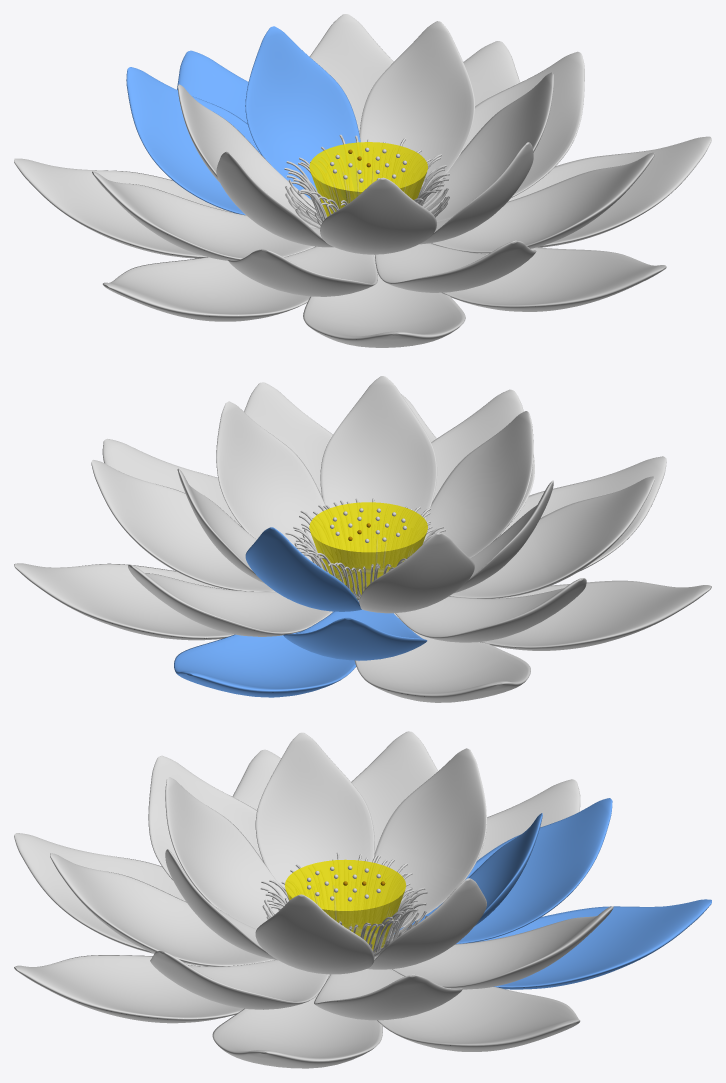
Rendered from lotus status 2.fbx.
3 renders of one model, top to bottom at view 1: azimuth 30°, elevation 25°; view 2: azimuth 150°, elevation 25°; view 3: azimuth 270°, elevation 25°, orthographic. The views are drawn at different scales.
Parts seen in each view (by area): view 1: Лофт_NURBS_1, Лофт_NURBS_0, Лофт_NURBS_3_3, Лофт_NURBS_5_3, Лофт_NURBS_3_2, Лофт_NURBS_4_3, Лофт_NURBS_6_2, Лофт_NURBS_6_3, Лофт_NURBS_0_2, Лофт_NURBS_2, Лофт_NURBS_2_3, Лофт_NURBS_4 (+10 smaller); view 2: Лофт_NURBS_3, Лофт_NURBS_2, Лофт_NURBS_5_2, Лофт_NURBS_4, Лофт_NURBS_2_2, Лофт_NURBS_5_3, Лофт_NURBS_1_3, Лофт_NURBS_0_3, Лофт_NURBS_6_3, Объект_Конус, Лофт_NURBS_1_2, Лофт_NURBS_6_2 (+9 smaller); view 3: Лофт_NURBS_5, Лофт_NURBS_6, Лофт_NURBS_4_2, Лофт_NURBS_4, Лофт_NURBS_3_3, Лофт_NURBS_1_3, Лофт_NURBS_0_2, Лофт_NURBS_2_3, Лофт_NURBS_0_3, Лофт_NURBS_1_2, Лофт_NURBS_3_2, Лофт_NURBS_2 (+10 smaller).
Part boxes in pixels (x1,y1,x2,y2): Лофт_NURBS_1: (359, 21, 474, 192); Лофт_NURBS_0: (245, 26, 360, 199); Лофт_NURBS_3_3: (430, 243, 666, 311); Лофт_NURBS_5_3: (102, 257, 310, 321); Лофт_NURBS_3_2: (431, 152, 654, 253); Лофт_NURBS_4_3: (303, 254, 465, 347); Лофт_NURBS_6_2: (92, 171, 315, 260); Лофт_NURBS_6_3: (14, 158, 232, 258); Лофт_NURBS_0_2: (126, 67, 260, 215); Лофт_NURBS_2: (422, 72, 553, 221); Лофт_NURBS_2_3: (508, 136, 711, 247); Лофт_NURBS_4: (320, 177, 436, 254); Лофт_NURBS_3: (320, 376, 437, 572); Лофт_NURBS_2: (216, 401, 354, 578); Лофт_NURBS_5_2: (449, 476, 654, 598); Лофт_NURBS_4: (423, 411, 533, 557); Лофт_NURBS_2_2: (91, 460, 274, 591); Лофт_NURBS_5_3: (480, 580, 711, 650); Лофт_NURBS_1_3: (14, 563, 234, 640); Лофт_NURBS_0_3: (174, 593, 359, 697); Лофт_NURBS_6_3: (354, 600, 530, 702); Объект_Конус: (309, 502, 427, 599); Лофт_NURBS_1_2: (128, 564, 332, 636); Лофт_NURBS_6_2: (395, 578, 586, 642); Лофт_NURBS_5: (255, 732, 374, 929); Лофт_NURBS_6: (356, 748, 486, 936); Лофт_NURBS_4_2: (50, 853, 274, 966); Лофт_NURBS_4: (165, 777, 288, 929); Лофт_NURBS_3_3: (14, 955, 243, 1023); Лофт_NURBS_1_3: (372, 947, 580, 1051); Лофт_NURBS_0_2: (456, 798, 612, 944); Лофт_NURBS_2_3: (212, 974, 382, 1068); Лофт_NURBS_0_3: (376, 899, 711, 989); Лофт_NURBS_1_2: (392, 906, 613, 989); Лофт_NURBS_3_2: (150, 951, 329, 1009); Лофт_NURBS_2: (255, 894, 374, 974).
Bounding box in the file's own units: 954 × 238 × 931.
